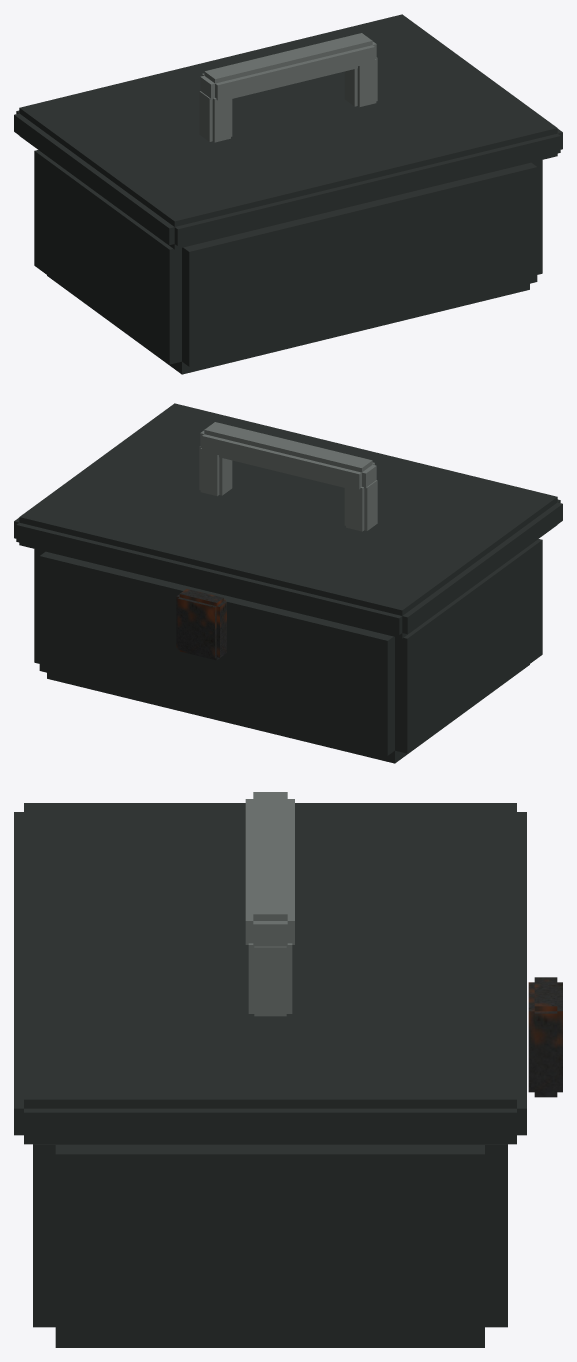
Rendered from SM_CashTin_c029708d8c.fbx.
3 renders of one model, top to bottom at view 1: azimuth 30°, elevation 25°; view 2: azimuth 150°, elevation 25°; view 3: azimuth 270°, elevation 25°, orthographic. The views are drawn at different scales.
Parts seen in each view (by area): view 1: SM_CashTin_c029708d8c; view 2: SM_CashTin_c029708d8c; view 3: SM_CashTin_c029708d8c.
Boxes of the visible parts, left/top/right/bottom form: SM_CashTin_c029708d8c: left=14, top=14, right=562, bottom=374; SM_CashTin_c029708d8c: left=14, top=403, right=562, bottom=763; SM_CashTin_c029708d8c: left=14, top=792, right=562, bottom=1347.
Size of what is drawn, in the model's own units: 38 by 28.9 by 20.9.
Materials: 3 (1 with a texture image).
